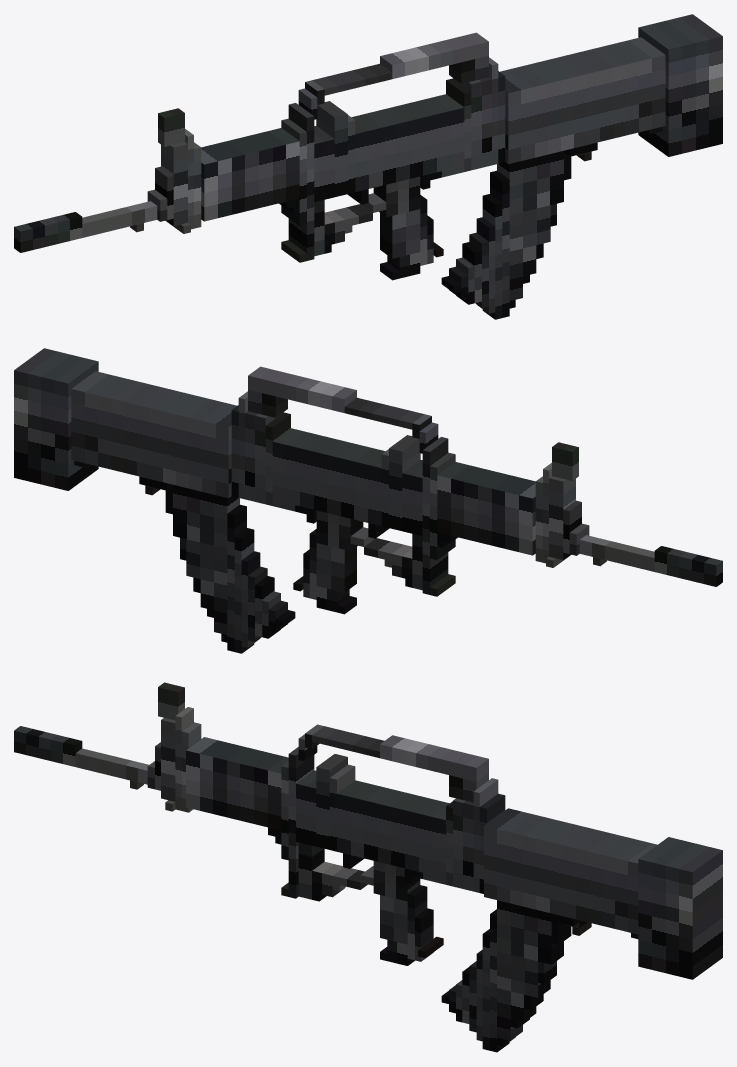
The picture shows the model from 3 angles, top to bottom: view 1: azimuth 30°, elevation 25°; view 2: azimuth 150°, elevation 25°; view 3: azimuth 330°, elevation 25°; orthographic projection.
Parts seen in each view (by area): view 1: download (1)_19, download (1)_17, download (1)_22, download (1)_18, download (1)_35, download (1)_1, download (1)_9, download (1)_12, download (1)_23, download (1)_11, download (1)_47, download (1)_25 (+26 smaller); view 2: download (1)_19, download (1)_17, download (1)_22, download (1)_18, download (1)_35, download (1)_1, download (1)_9, download (1)_12, download (1)_23, download (1)_11, download (1)_47, download (1)_25 (+26 smaller); view 3: download (1)_19, download (1)_17, download (1)_22, download (1)_18, download (1)_35, download (1)_1, download (1)_12, download (1)_23, download (1)_9, download (1)_52, download (1)_25, download (1)_11 (+21 smaller).
Part boxes in pixels (<box>): download (1)_19: <box>500,37,665,164</box>; download (1)_17: <box>638,14,722,156</box>; download (1)_22: <box>351,94,464,191</box>; download (1)_18: <box>201,128,299,221</box>; download (1)_35: <box>497,151,563,214</box>; download (1)_1: <box>380,32,488,78</box>; download (1)_9: <box>288,103,314,260</box>; download (1)_12: <box>453,77,491,170</box>; download (1)_23: <box>14,212,82,252</box>; download (1)_11: <box>316,101,347,196</box>; download (1)_47: <box>380,209,420,258</box>; download (1)_25: <box>82,201,157,237</box>; download (1)_19: <box>71,371,236,498</box>; download (1)_17: <box>14,348,98,490</box>; download (1)_22: <box>272,428,385,525</box>; download (1)_18: <box>437,462,535,555</box>; download (1)_35: <box>173,485,239,548</box>; download (1)_1: <box>248,366,356,412</box>; download (1)_9: <box>422,437,448,594</box>; download (1)_12: <box>245,411,283,504</box>; download (1)_23: <box>654,546,722,586</box>; download (1)_11: <box>389,435,420,530</box>; download (1)_47: <box>316,543,356,592</box>; download (1)_25: <box>579,535,654,571</box>; download (1)_19: <box>484,808,657,934</box>; download (1)_17: <box>638,837,722,979</box>; download (1)_22: <box>337,780,449,878</box>; download (1)_18: <box>186,737,288,830</box>; download (1)_35: <box>497,900,563,964</box>; download (1)_1: <box>380,735,488,781</box>; download (1)_12: <box>453,798,473,891</box>; download (1)_23: <box>14,726,82,766</box>; download (1)_9: <box>288,747,314,898</box>; download (1)_52: <box>497,951,550,997</box>; download (1)_25: <box>75,748,148,784</box>; download (1)_11: <box>316,754,347,849</box>.
Bounding box in the file's own units: 0.8411 × 0.3254 × 0.0638.
1 material, 1 textured.
